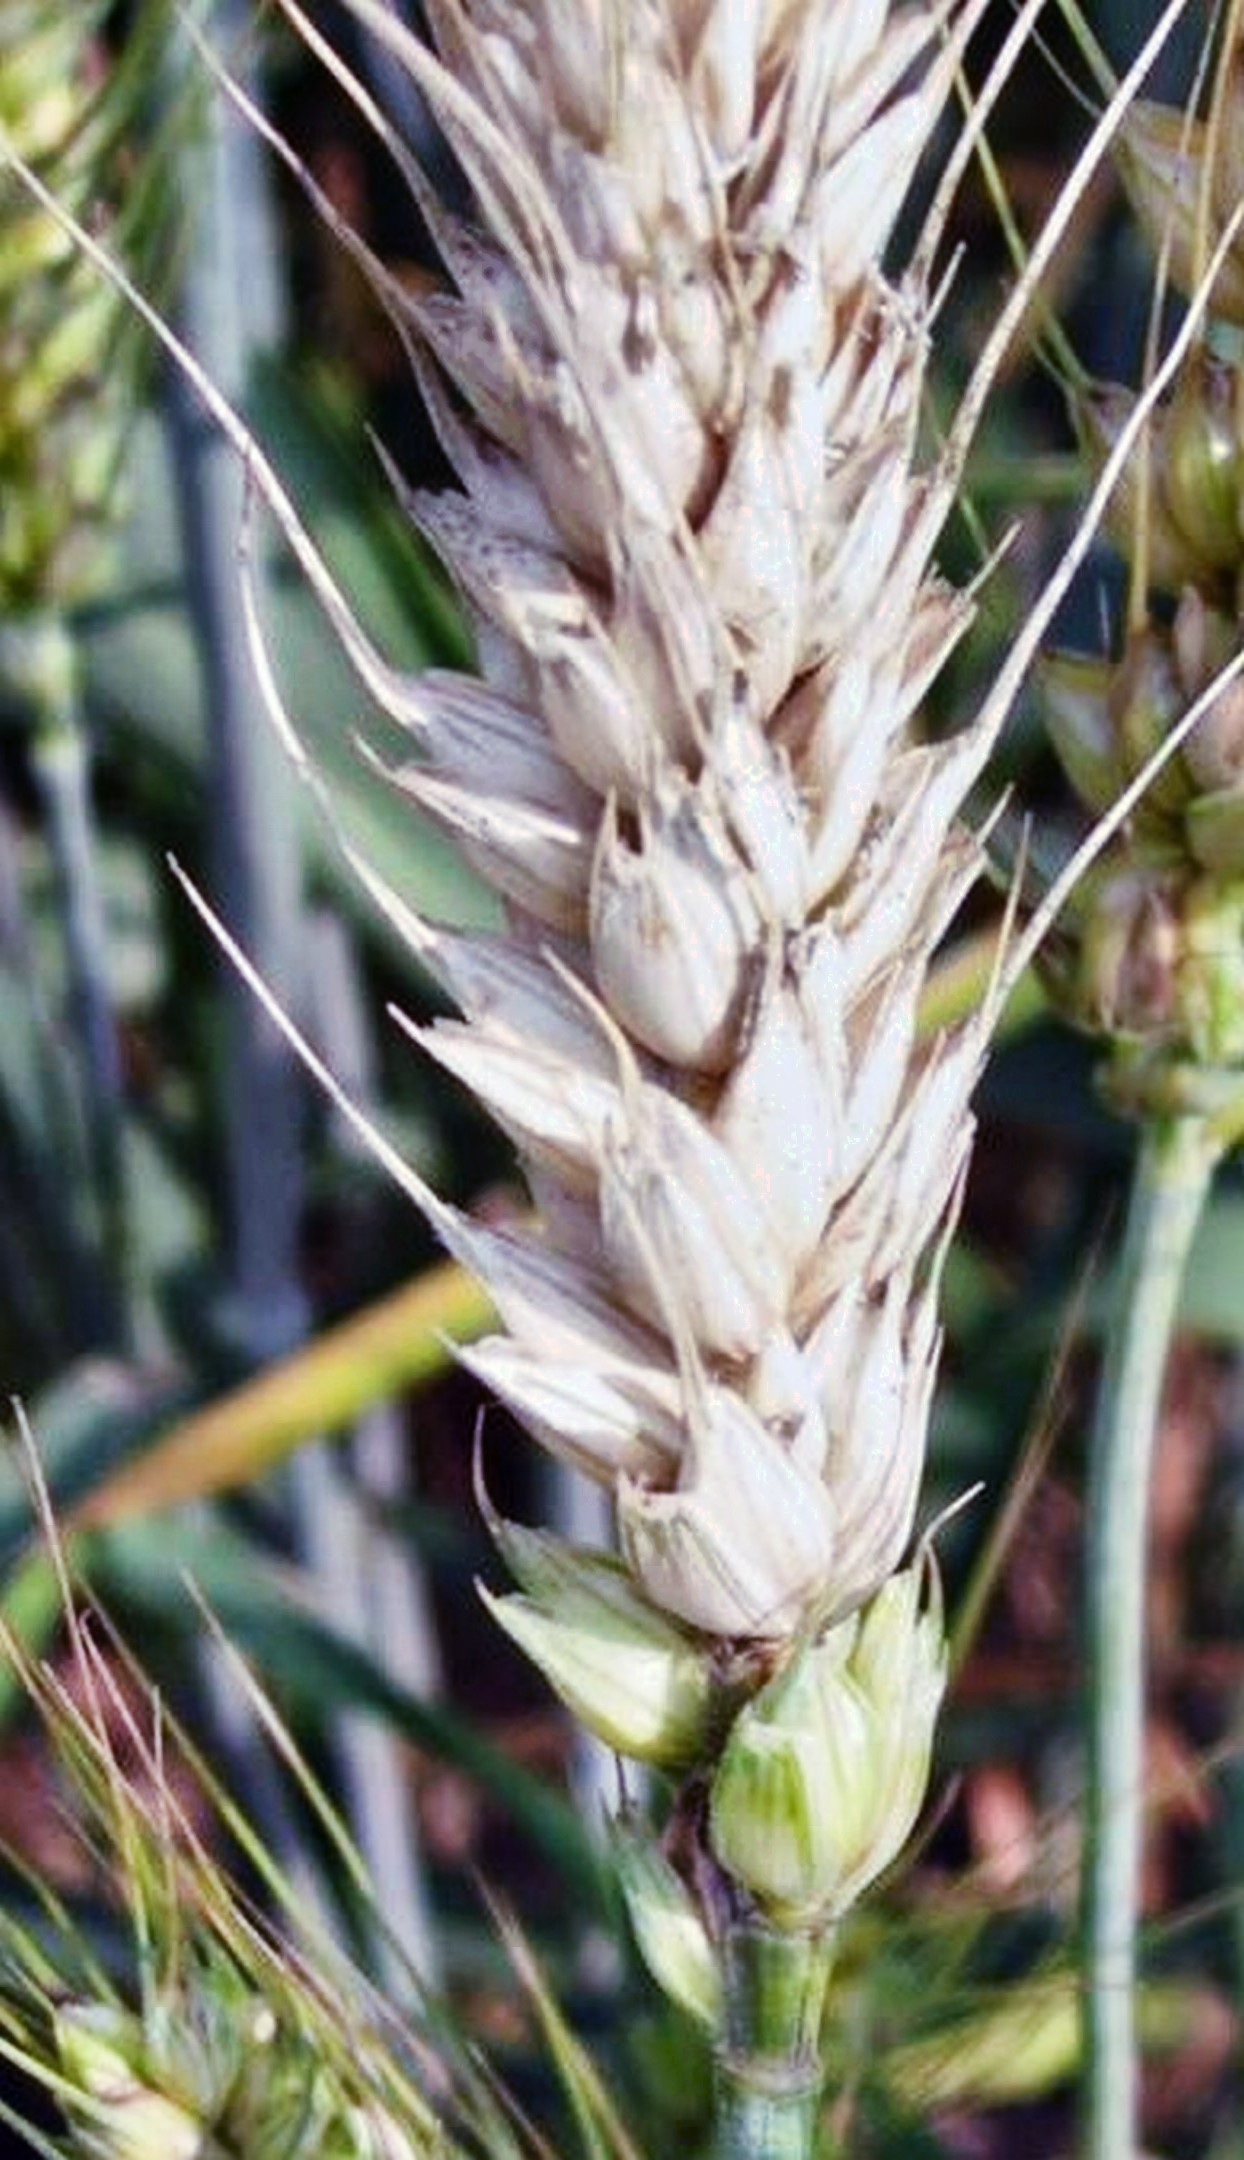Wheat scab: (371, 22, 1048, 1923)
